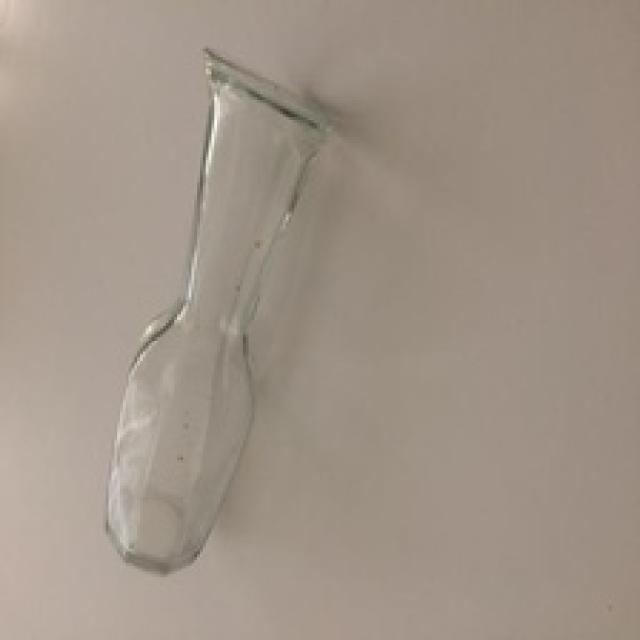Glass: (107, 41, 330, 576)
